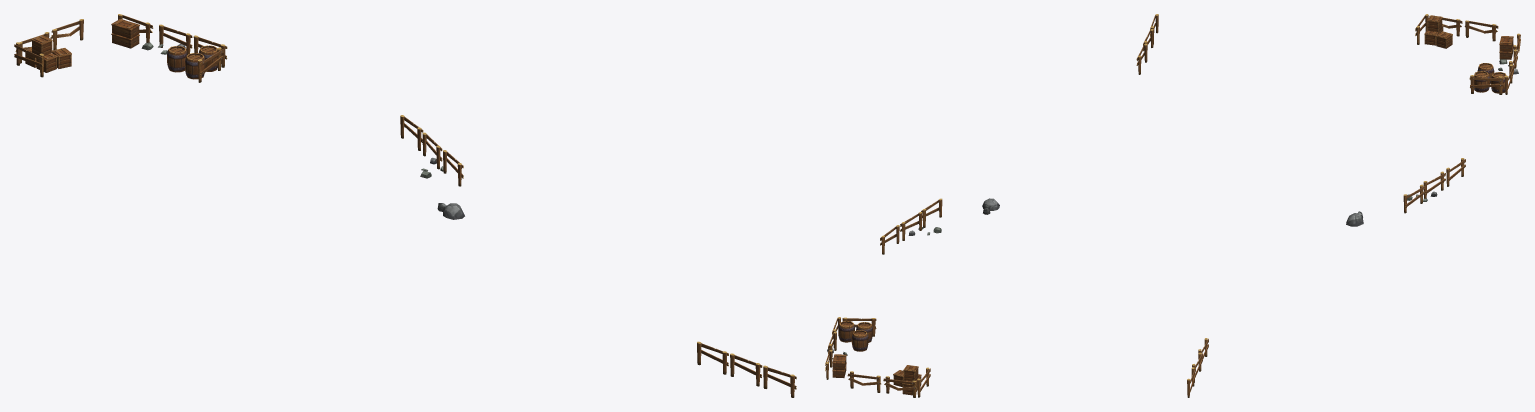
Rendered from wujian25_1.fbx.
3 renders of one model, left to right at view 1: azimuth 30°, elevation 25°; view 2: azimuth 150°, elevation 25°; view 3: azimuth 330°, elevation 25°, orthographic. The views are drawn at different scales.
Visible parts, largest first — view 1: wujian25_1; view 2: wujian25_1; view 3: wujian25_1.
Part boxes in pixels (bbox=[...]): wujian25_1: bbox=[14, 14, 796, 397]; wujian25_1: bbox=[825, 14, 1158, 397]; wujian25_1: bbox=[1187, 14, 1520, 397].
Size of the model in its own units: 1488 by 162 by 5716.
